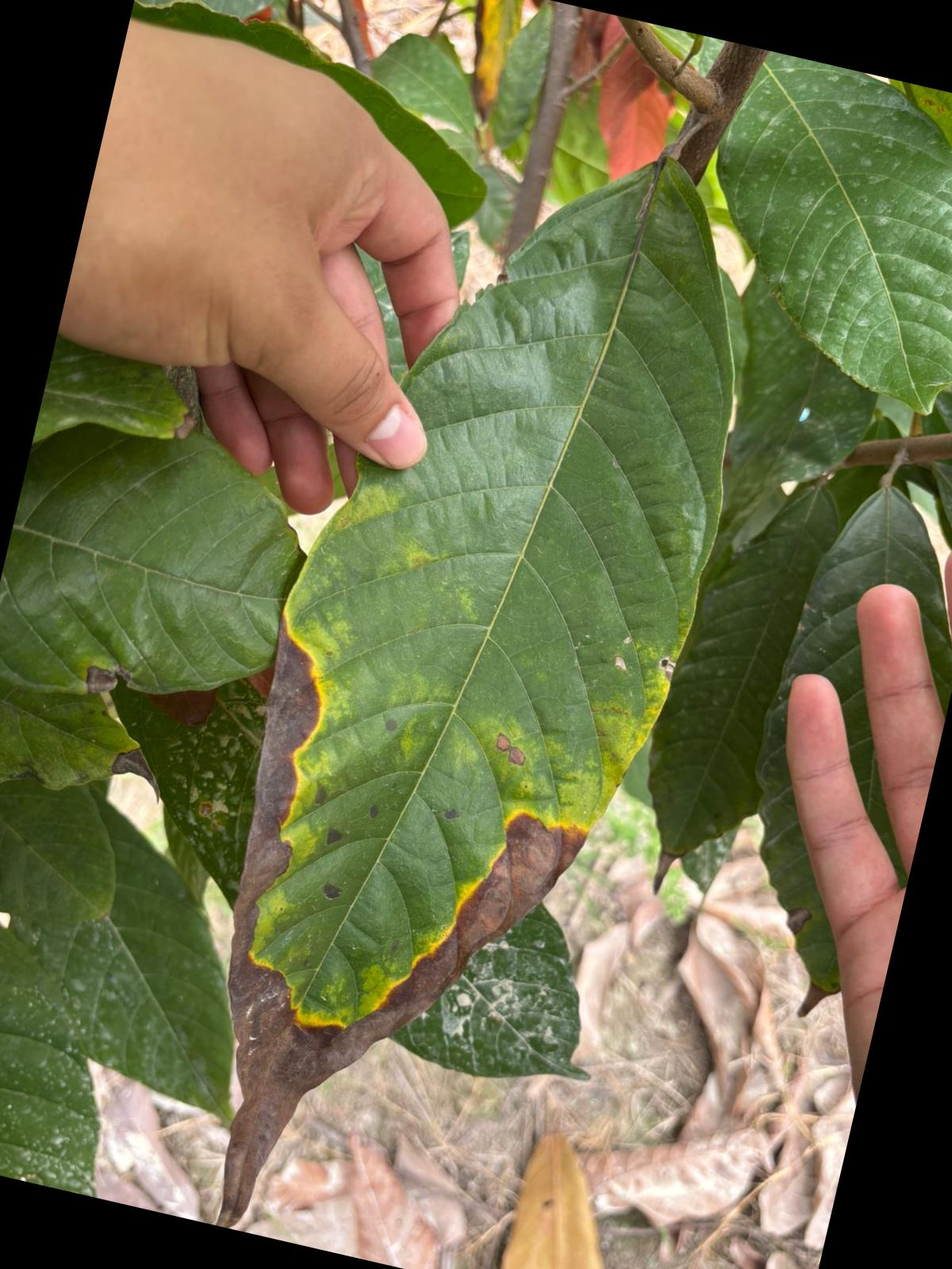Potasio: (222, 160, 732, 1222)
